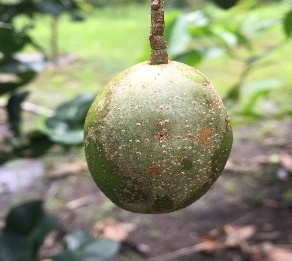Coc: (65, 46, 240, 226)
